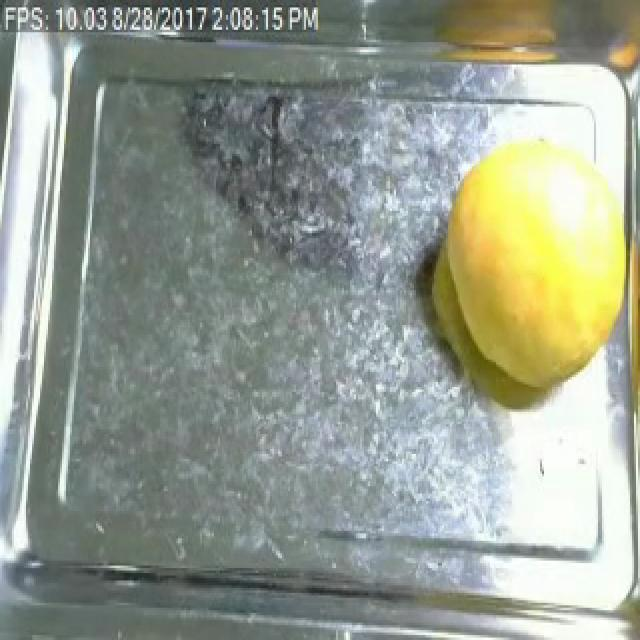fruit: (428, 129, 636, 409), (410, 0, 580, 89)
